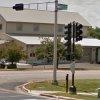Traffic light: (61, 15, 88, 62)
